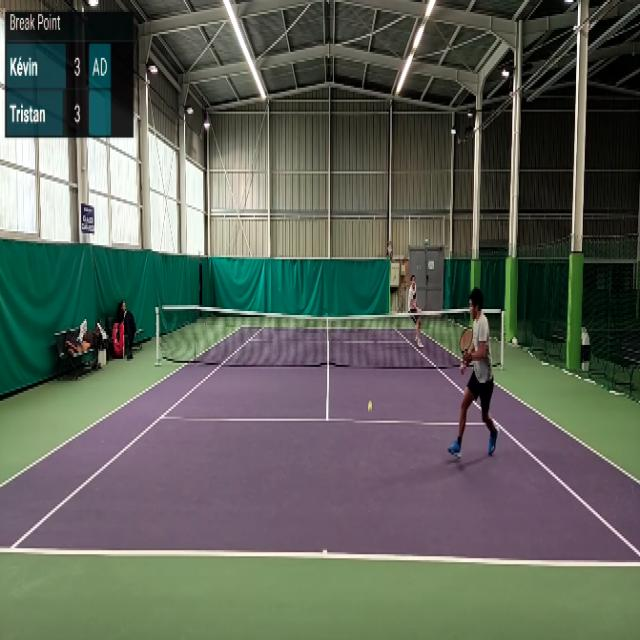ball: (367, 399, 373, 413)
